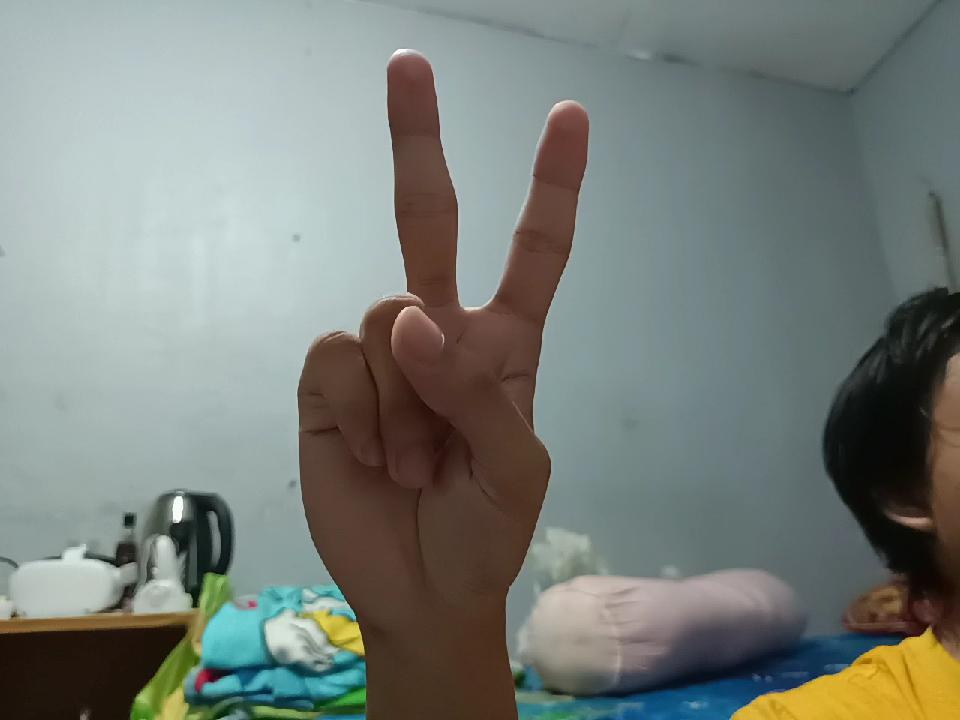scissors: (318, 23, 602, 684)
